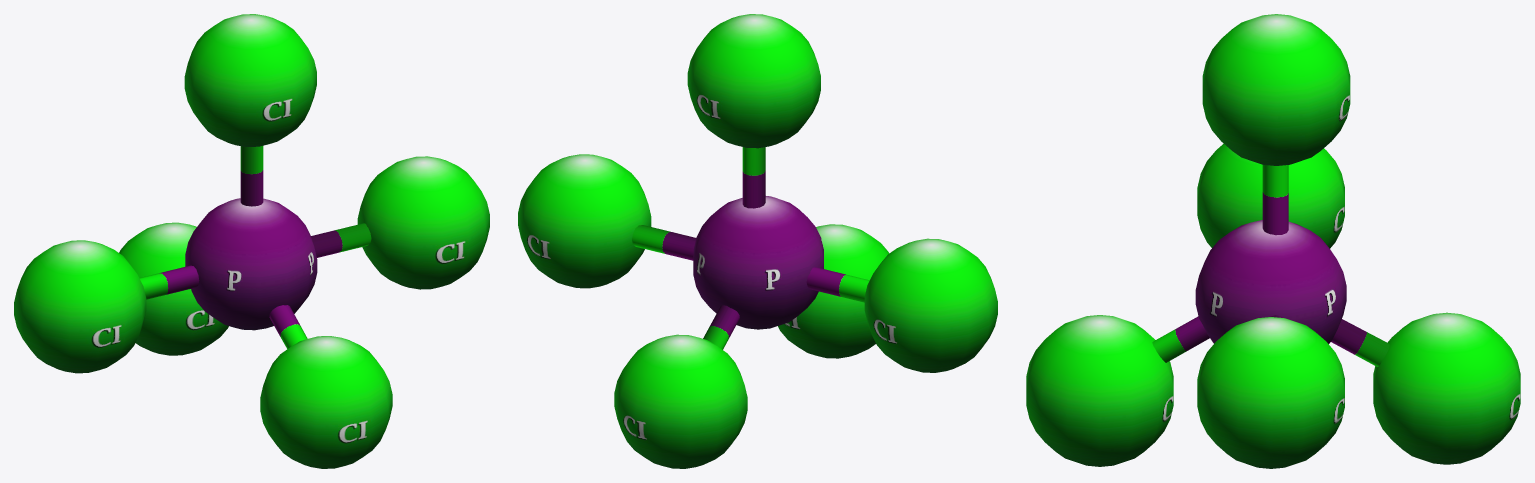
Rendered from PCl5.dae.
3 renders of one model, left to right at view 1: azimuth 30°, elevation 25°; view 2: azimuth 150°, elevation 25°; view 3: azimuth 270°, elevation 25°, orthographic. The views are drawn at different scales.
Parts seen in each view (by area): view 1: polySurface14; view 2: polySurface14; view 3: polySurface14.
Part boxes in pixels (box(x1,y1,x2,y2)): polySurface14: box(14, 14, 489, 468); polySurface14: box(518, 14, 997, 468); polySurface14: box(1026, 14, 1520, 468).
Bounding box in the file's own units: 8.62 × 6.93 × 7.06.
1 material, 1 textured.
